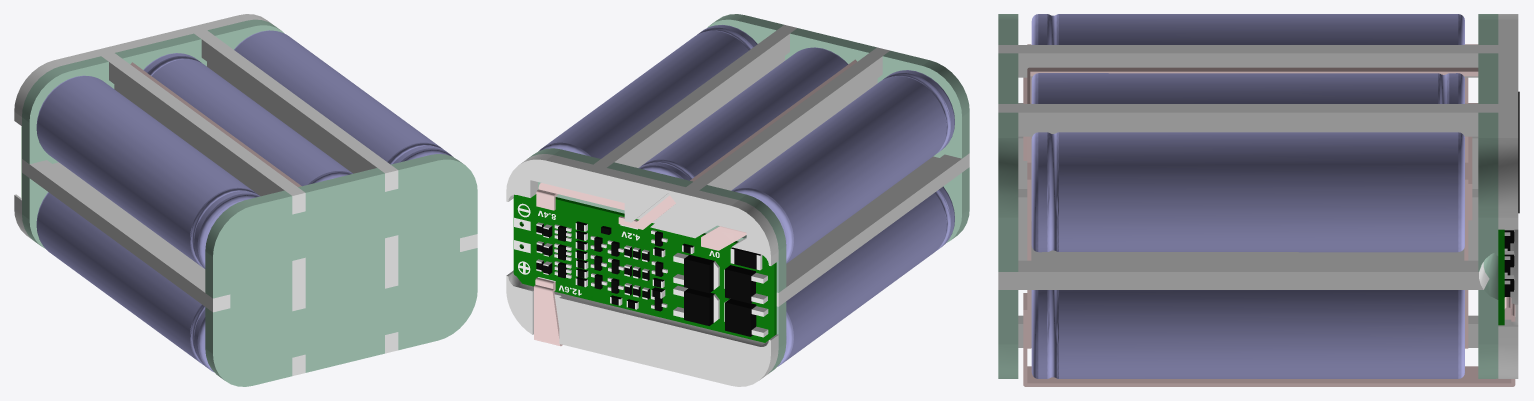
The model's file is battery_2p3s_18650.fbx.
The picture shows the model from 3 angles, left to right: view 1: azimuth 30°, elevation 25°; view 2: azimuth 150°, elevation 25°; view 3: azimuth 270°, elevation 25°; orthographic projection. The views are drawn at different scales.
Visible parts, largest first — view 1: imagetostl_mesh1, imagetostl_mesh9, imagetostl_mesh2, imagetostl_mesh3; view 2: imagetostl_mesh9, imagetostl_mesh2, imagetostl_mesh6, imagetostl_mesh1, imagetostl_mesh7, imagetostl_mesh3, imagetostl_mesh5, imagetostl_mesh4, imagetostl_mesh8; view 3: imagetostl_mesh9, imagetostl_mesh2, imagetostl_mesh1, imagetostl_mesh3, imagetostl_mesh7, imagetostl_mesh6.
Part boxes in pixels (<box>): imagetostl_mesh1: <box>22,19,477,386</box>; imagetostl_mesh9: <box>36,30,452,372</box>; imagetostl_mesh2: <box>14,14,477,375</box>; imagetostl_mesh3: <box>130,62,301,186</box>; imagetostl_mesh9: <box>538,25,954,366</box>; imagetostl_mesh2: <box>506,25,969,386</box>; imagetostl_mesh6: <box>513,194,776,342</box>; imagetostl_mesh1: <box>522,14,969,373</box>; imagetostl_mesh7: <box>536,221,760,336</box>; imagetostl_mesh3: <box>534,59,856,346</box>; imagetostl_mesh5: <box>514,217,768,337</box>; imagetostl_mesh4: <box>554,225,724,308</box>; imagetostl_mesh8: <box>517,203,719,295</box>; imagetostl_mesh9: <box>1031,14,1464,378</box>; imagetostl_mesh2: <box>998,14,1518,378</box>; imagetostl_mesh1: <box>998,14,1498,378</box>; imagetostl_mesh3: <box>1023,44,1515,386</box>; imagetostl_mesh7: <box>1504,91,1519,296</box>; imagetostl_mesh6: <box>1498,229,1504,325</box>.
Size of the model in its own units: 6000 by 3985 by 7818.
